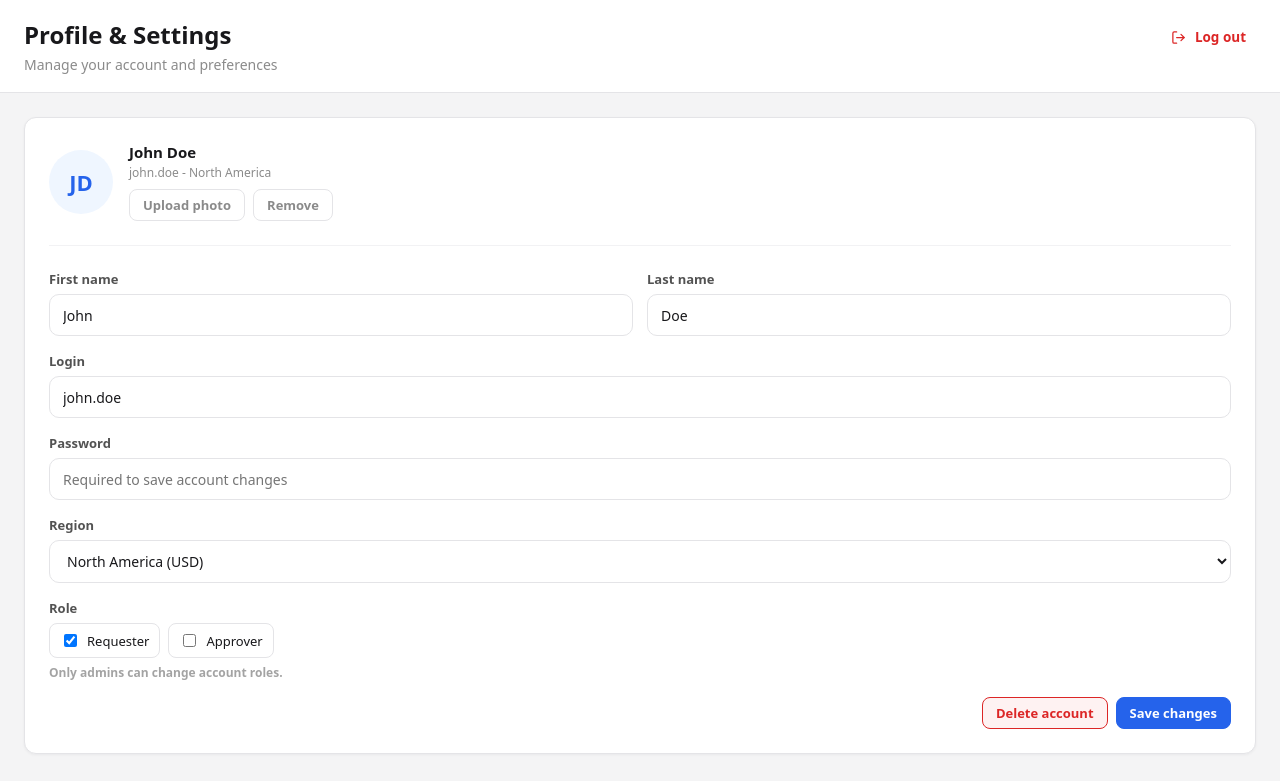
Test: ProfileView › lets admins manage roles and approver profile
This screenshot has width=1280, height=781.
Click the checkbox labelled "Approver" at (190, 640), box [183, 634, 196, 647]
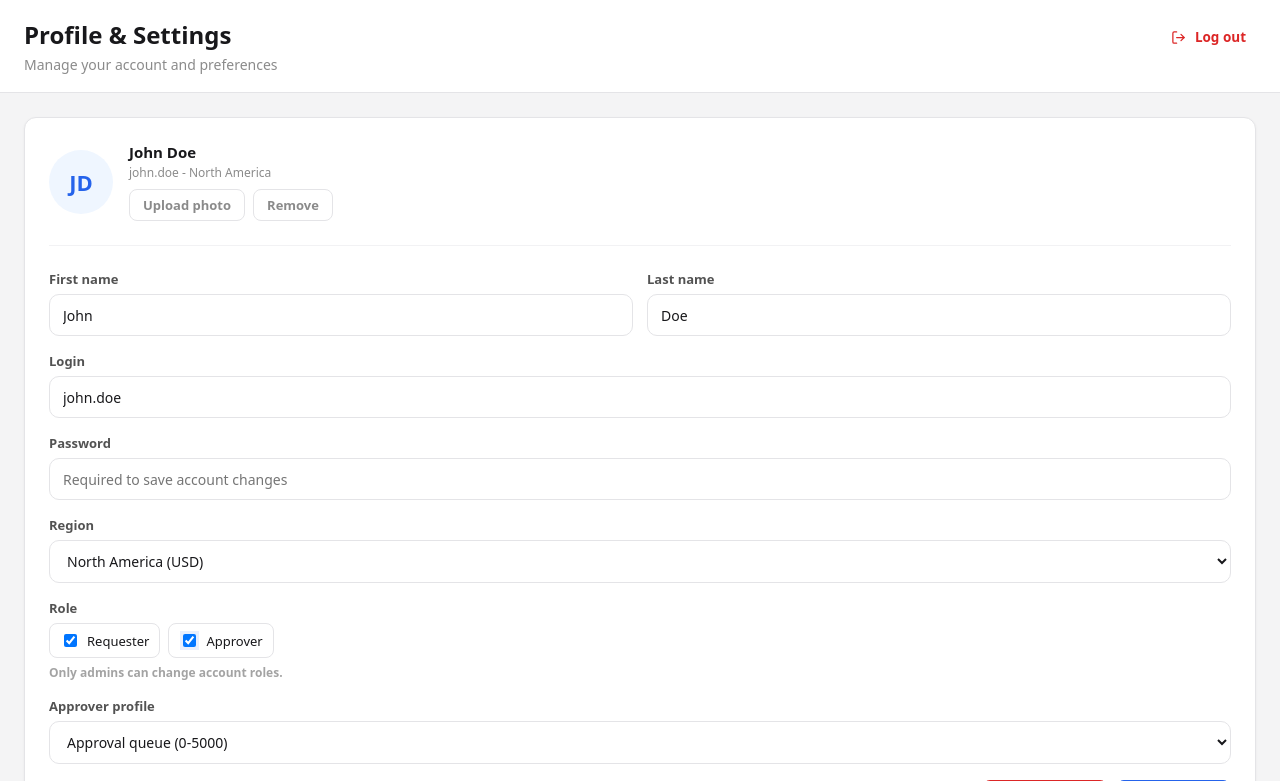
expect the dropdown labelled "Approver profile" is shown: met, box [49, 721, 1231, 764]
